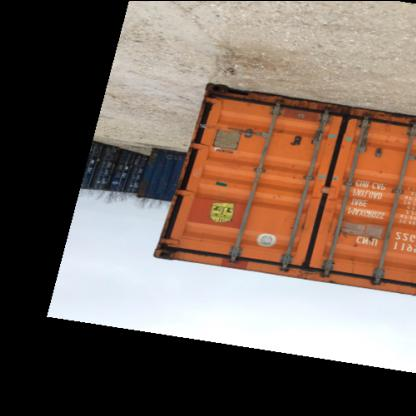Damage: (369, 114, 405, 162), (326, 201, 354, 245), (209, 128, 242, 159), (283, 258, 327, 280), (360, 213, 384, 251), (158, 242, 180, 264), (209, 173, 230, 195), (284, 136, 300, 150)
